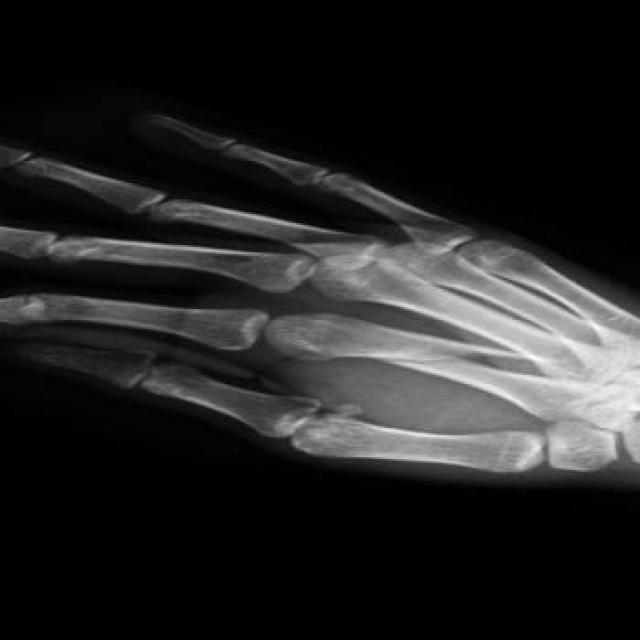Fracture: (349, 334, 494, 376)
